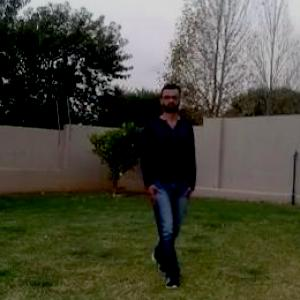follow: (147, 91, 192, 267)
